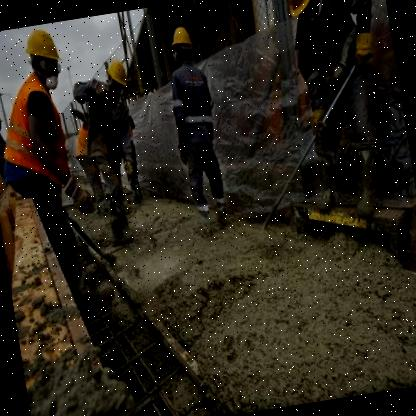capacete: (22, 22, 64, 96), (166, 20, 196, 68), (282, 0, 328, 25), (102, 58, 129, 98), (0, 110, 4, 134)
colete_refletivo: (0, 72, 77, 198)
sem_colete_refletivo: (277, 0, 395, 141), (70, 70, 140, 174), (162, 56, 220, 148), (0, 123, 9, 167)
